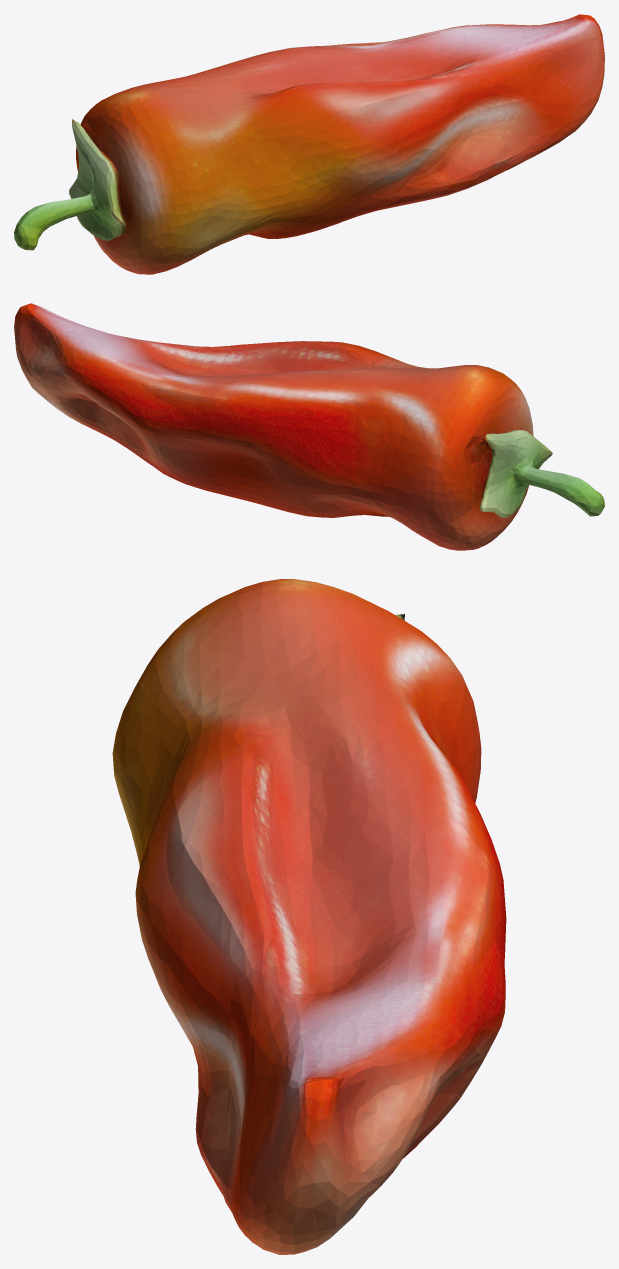
Rendered from red_chili.glb.
3 views of the same model, one above another, from view 1: azimuth 30°, elevation 25°; view 2: azimuth 150°, elevation 25°; view 3: azimuth 270°, elevation 25° (orthographic). The views are drawn at different scales.
Visible parts, largest first — view 1: world.004; view 2: world.004; view 3: world.004.
Part boxes in pixels (left/top/right/bottom): world.004: left=14, top=14, right=604, bottom=274; world.004: left=14, top=303, right=604, bottom=550; world.004: left=112, top=579, right=506, bottom=1254.
Size of the model in its own units: 0.9933 by 0.2772 by 0.2931.
Materials: 1 (1 with a texture image).
